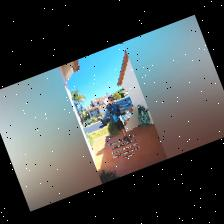person: (106, 95, 127, 140)
